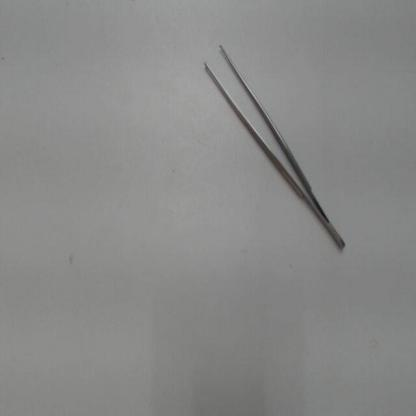Gillies Toothed Dissector: (198, 28, 353, 261)
